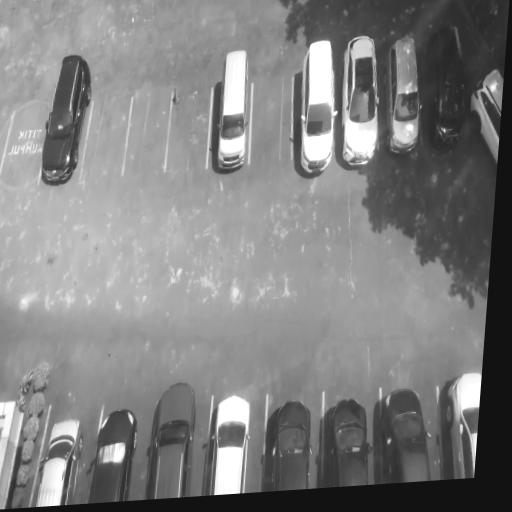Car: (141, 372, 199, 500), (41, 50, 94, 187), (292, 35, 342, 176), (336, 32, 386, 172), (423, 24, 475, 158), (206, 44, 255, 175), (380, 29, 427, 160), (376, 383, 435, 484), (203, 382, 255, 496), (29, 408, 86, 508), (431, 366, 480, 480), (261, 392, 314, 492), (318, 392, 370, 488), (86, 408, 139, 501), (464, 59, 503, 174)
Space Available: (248, 53, 295, 168), (165, 69, 215, 176), (125, 73, 175, 179), (82, 72, 131, 176), (0, 84, 46, 192)
